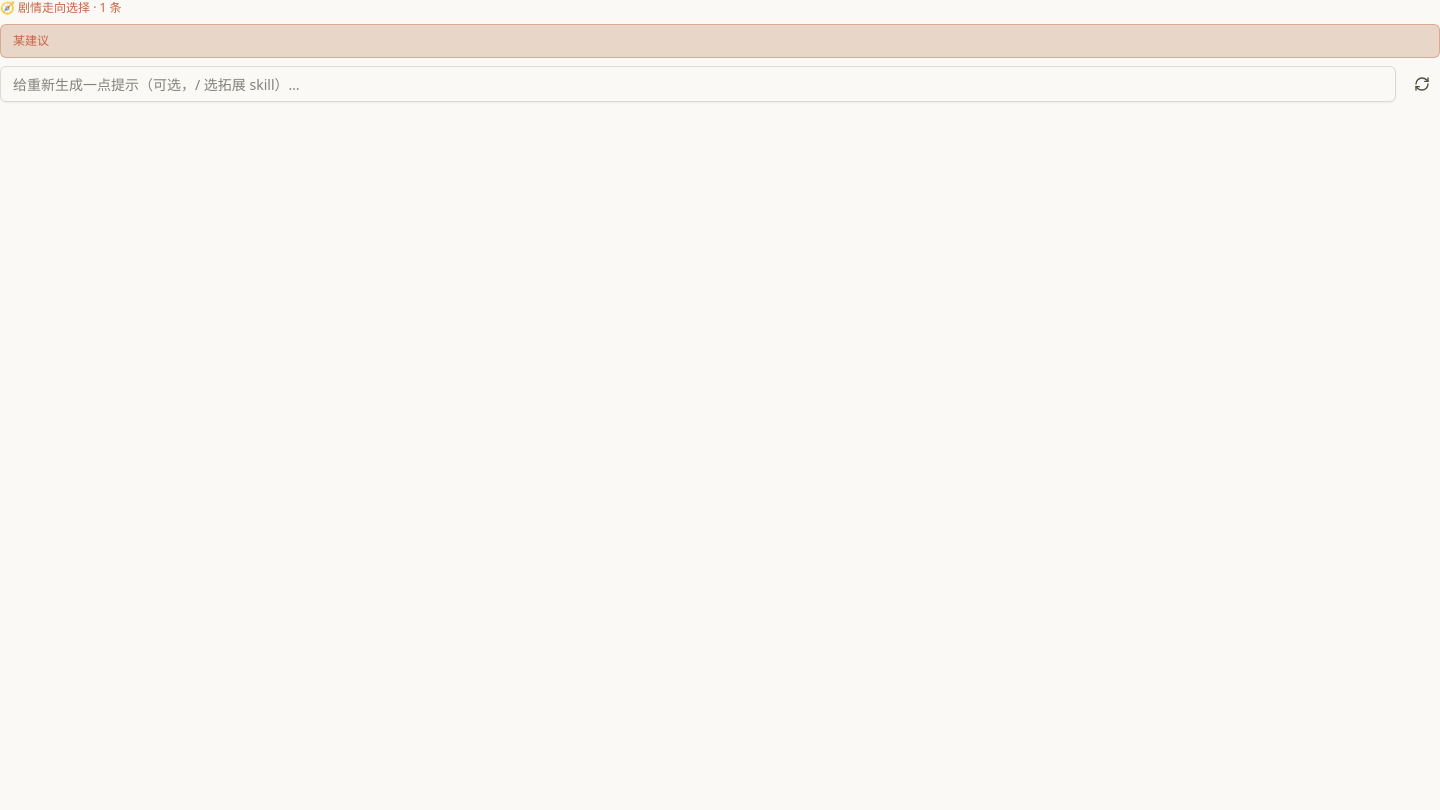
SuggestionsBubble regenerate › shows plot-extension slash menu when hint starts with /
This screenshot has width=1440, height=810.
Type "/" into the field with placeholder "给重新生成一点提示（可选，/ 选拓展 skill）…" at (698, 84), box [0,66,1396,102]
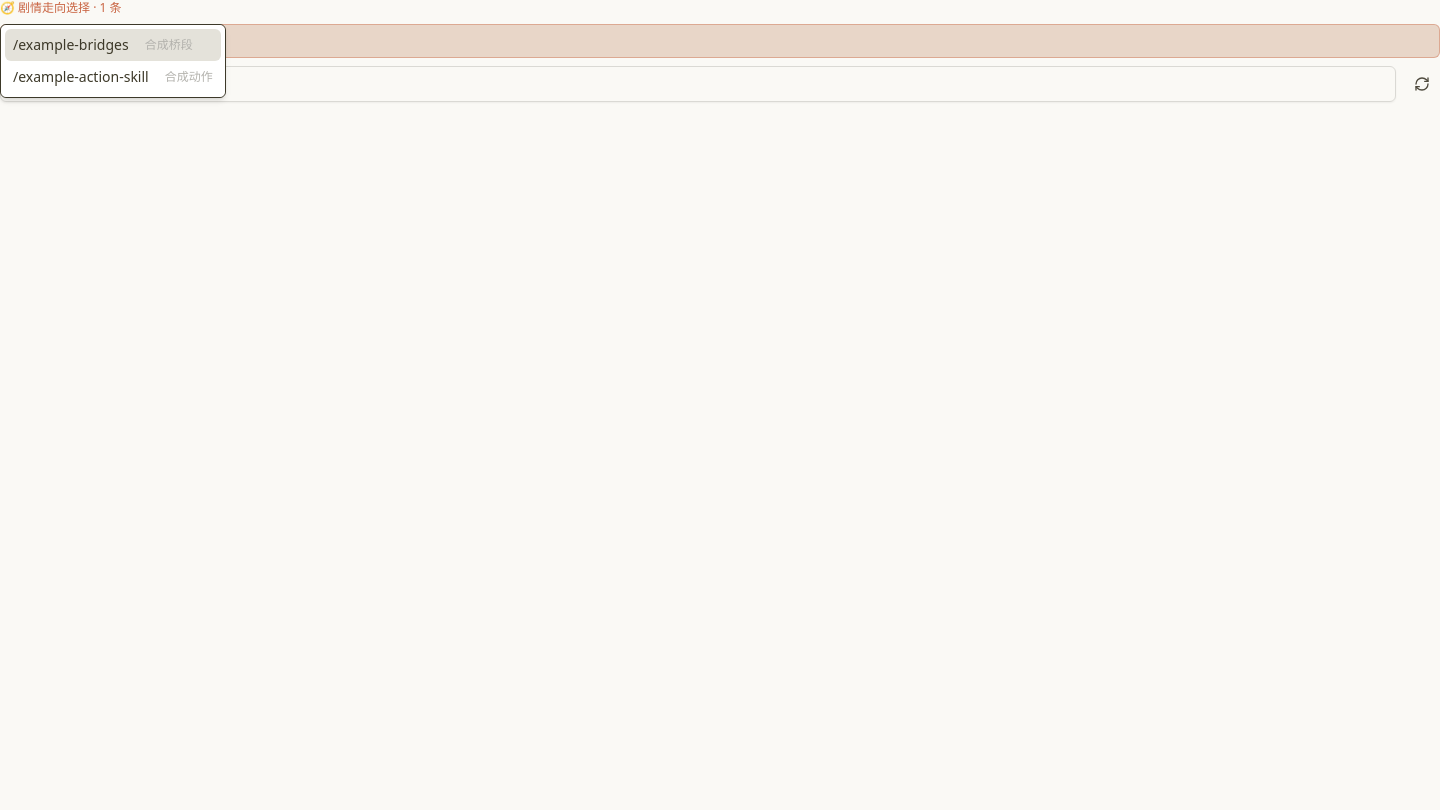
Expected: the text "/example-bridges" is shown, [13,35,129,55]
Expected: the text "/example-action-skill" is shown, [13,67,149,87]
